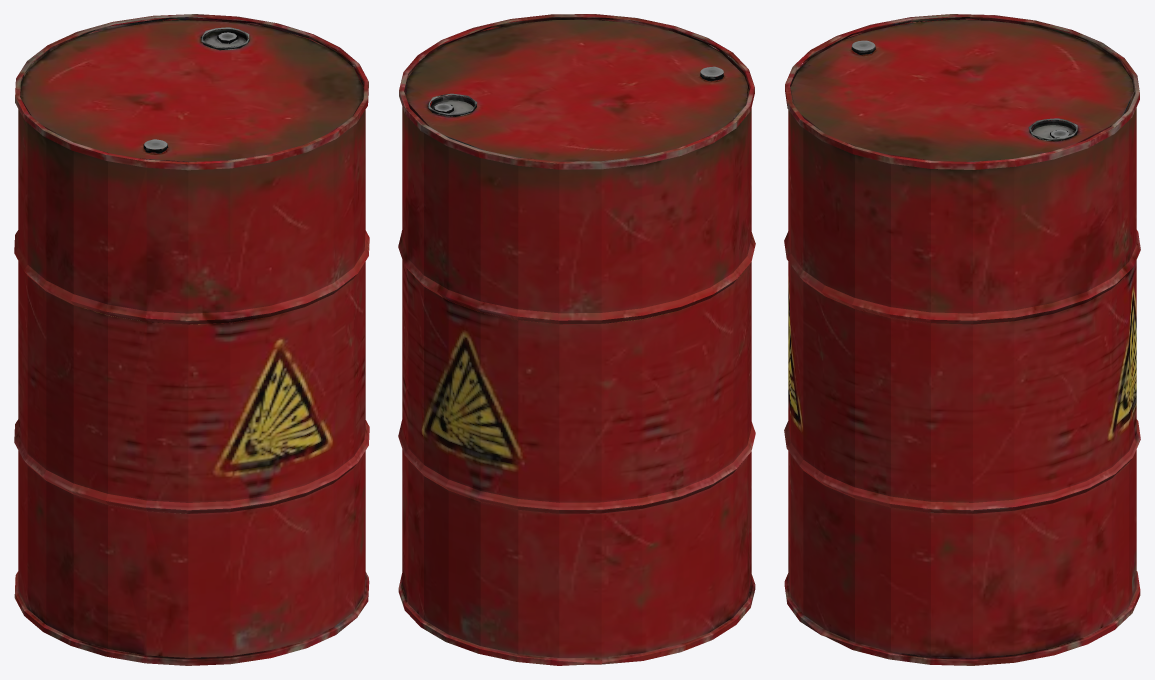
File: barrel_01.glb
3 views of the same model, side by side, from view 1: azimuth 30°, elevation 25°; view 2: azimuth 150°, elevation 25°; view 3: azimuth 270°, elevation 25° (orthographic).
Parts seen in each view (by area): view 1: barrel_01; view 2: barrel_01; view 3: barrel_01.
Boxes of the visible parts, <box> form: barrel_01: <box>14,14,369,665</box>; barrel_01: <box>398,14,755,665</box>; barrel_01: <box>784,14,1140,665</box>.
Bounding box in the file's own units: 0.5638 × 0.8796 × 0.5638.
Materials: 1 (1 with a texture image).
